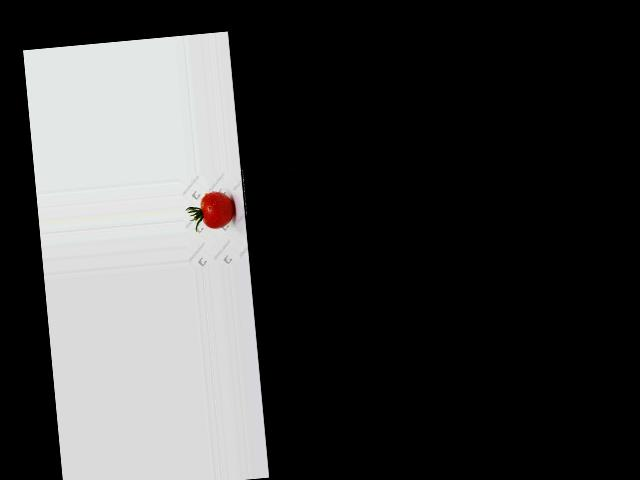tomato: (200, 191, 236, 230)
